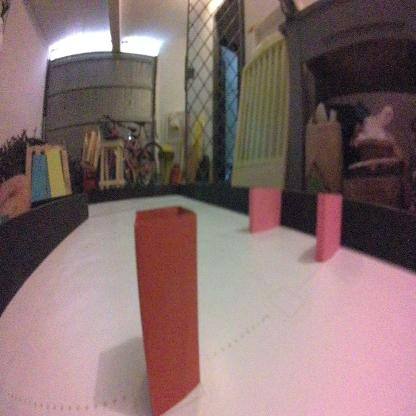magenta: (313, 186, 348, 270), (247, 180, 280, 233)
red: (131, 201, 205, 416)
